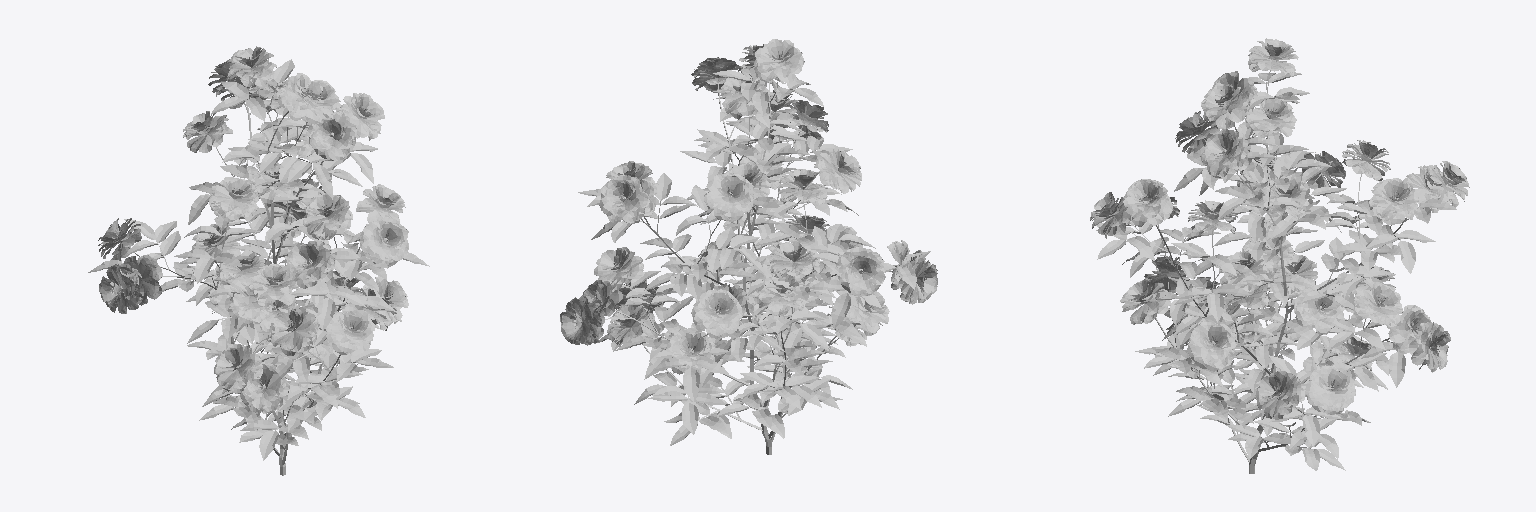
Rendered from rose.obj.
3 renders of one model, left to right at view 1: azimuth 30°, elevation 25°; view 2: azimuth 150°, elevation 25°; view 3: azimuth 270°, elevation 25°, orthographic.
Visible parts, largest first — view 1: maxtree_windtree_028_03; view 2: maxtree_windtree_028_03; view 3: maxtree_windtree_028_03.
Boxes of the visible parts, <box> form: maxtree_windtree_028_03: <box>88,46,429,475</box>; maxtree_windtree_028_03: <box>560,39,937,454</box>; maxtree_windtree_028_03: <box>1090,38,1469,473</box>.
Size of the model in its own units: 33.67 by 43.08 by 35.19.